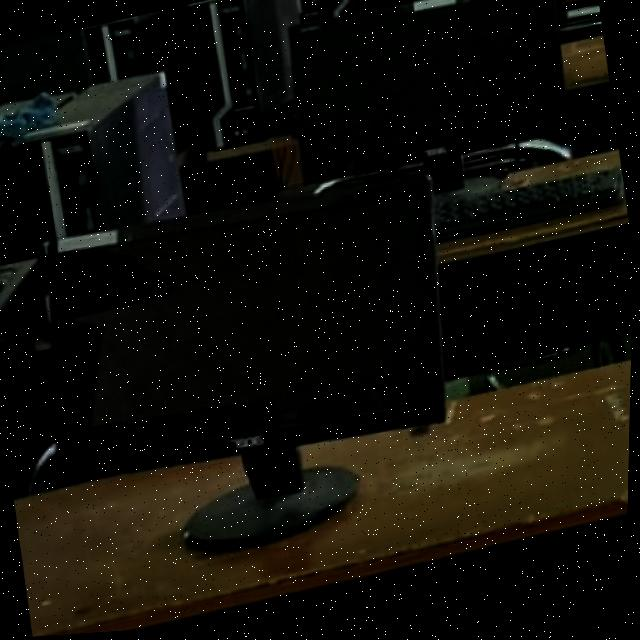offscreen: (57, 181, 447, 481), (291, 0, 570, 185)
